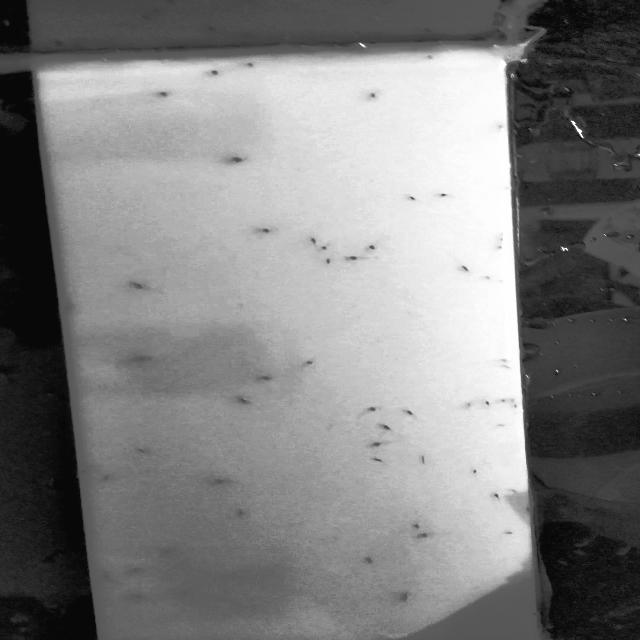shrimp: (204, 474, 242, 487), (349, 406, 379, 422), (124, 351, 149, 368), (316, 252, 339, 270), (295, 356, 320, 372), (361, 452, 389, 465), (228, 509, 254, 521), (373, 422, 395, 436), (252, 372, 278, 383), (236, 394, 258, 407), (70, 465, 91, 478), (228, 152, 250, 164), (456, 264, 477, 276), (127, 280, 148, 292), (258, 225, 280, 236), (158, 546, 177, 558), (56, 297, 71, 312), (307, 233, 327, 244), (366, 242, 384, 254), (409, 520, 424, 533), (361, 442, 387, 449), (401, 408, 416, 420), (100, 474, 118, 484), (130, 446, 151, 454), (508, 398, 520, 412), (437, 190, 453, 200), (313, 243, 331, 251), (240, 61, 260, 68), (496, 528, 515, 535), (406, 197, 428, 203), (479, 273, 501, 279), (100, 572, 116, 580), (131, 592, 147, 600), (488, 492, 503, 500), (419, 454, 431, 464), (400, 594, 414, 602), (358, 555, 373, 562), (160, 94, 177, 100), (362, 92, 382, 97), (415, 534, 431, 540), (177, 589, 196, 594), (498, 364, 517, 369), (347, 253, 357, 262), (461, 404, 476, 410), (480, 400, 490, 409), (131, 570, 142, 578), (206, 70, 223, 75), (494, 241, 508, 247), (468, 468, 480, 475), (497, 420, 511, 426), (496, 355, 510, 360), (501, 398, 508, 406)
